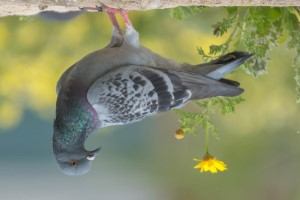pigeon: (49, 3, 257, 177)
